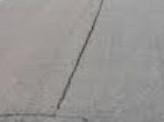crack: (87, 0, 106, 70), (3, 111, 106, 122), (58, 66, 78, 122), (70, 40, 87, 103)
